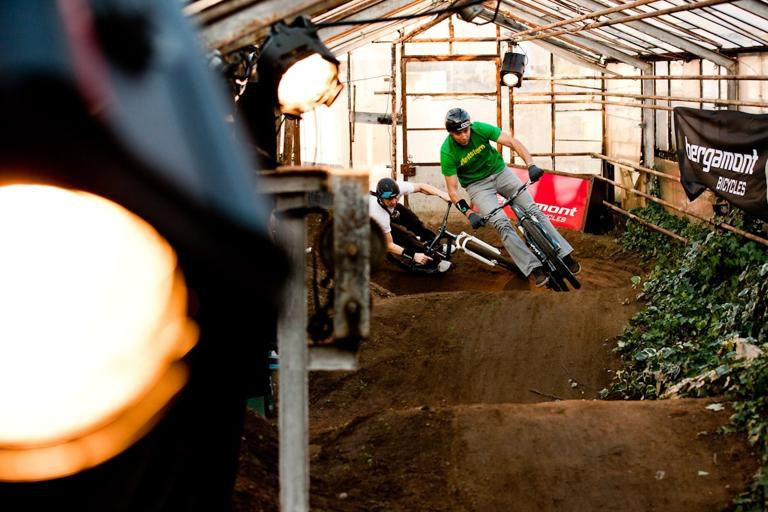non-vehicle: (473, 170, 581, 292), (385, 201, 528, 281)
